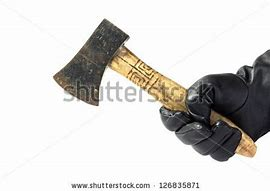axe: (51, 16, 260, 164)
